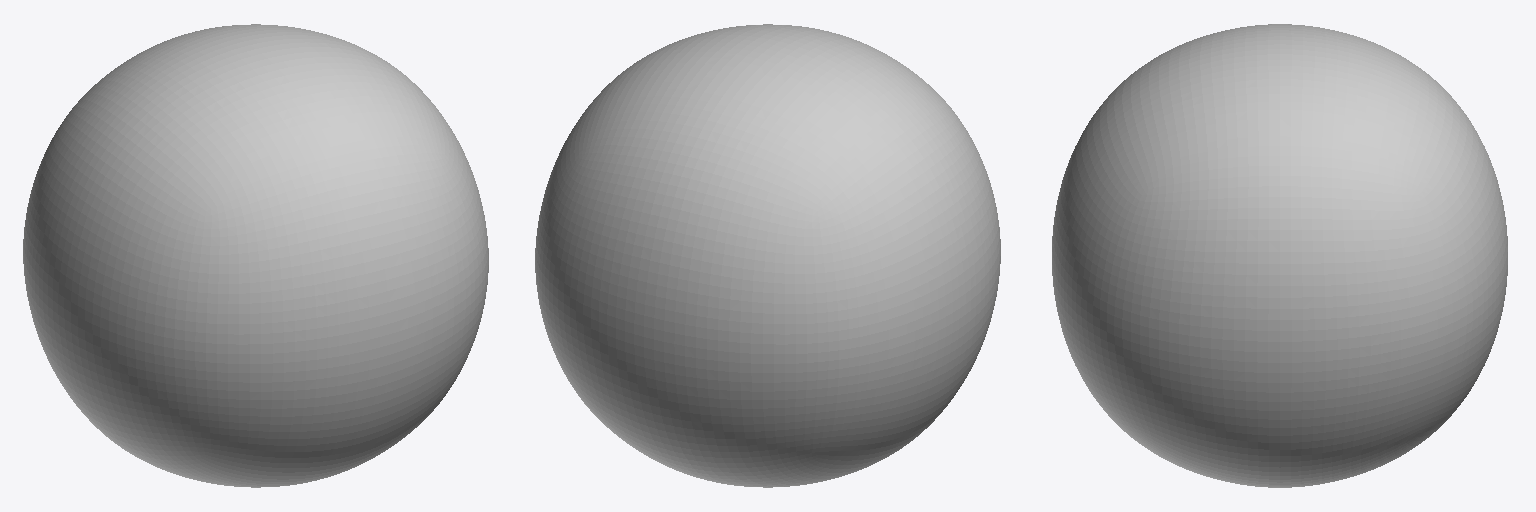
Rendered from eye2.obj.
3 renders of one model, left to right at view 1: azimuth 30°, elevation 25°; view 2: azimuth 150°, elevation 25°; view 3: azimuth 270°, elevation 25°, orthographic.
Parts seen in each view (by area): view 1: eye2_Cube.003; view 2: eye2_Cube.003; view 3: eye2_Cube.003.
Part boxes in pixels (bbox=[...]): eye2_Cube.003: bbox=[23, 24, 488, 487]; eye2_Cube.003: bbox=[535, 24, 1000, 487]; eye2_Cube.003: bbox=[1052, 24, 1507, 487].
Bounding box in the file's own units: 0.5541 × 0.5541 × 0.5541.